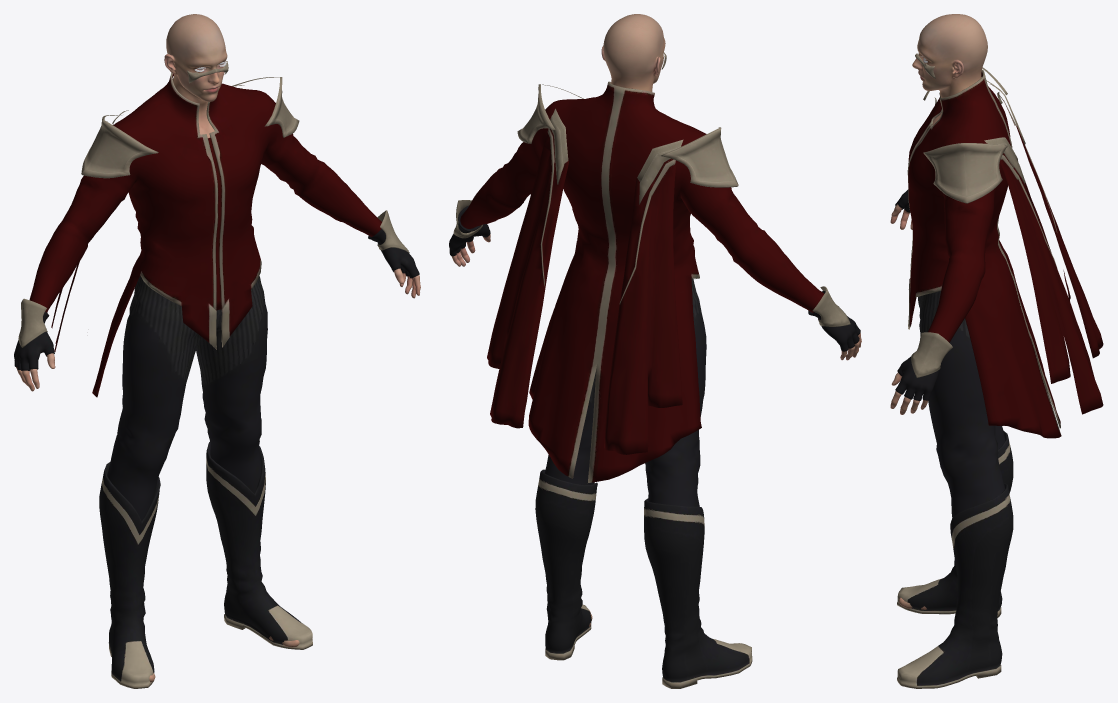
The picture shows the model from 3 angles, left to right: view 1: azimuth 30°, elevation 25°; view 2: azimuth 150°, elevation 25°; view 3: azimuth 270°, elevation 25°; orthographic projection. The views are drawn at different scales.
Parts seen in each view (by area): view 1: GM_0101_T01_Body, GM_0101_T01_Pants, GM_0101_T01_Boots, GM_BaseHead, GM_0101_T01_Glove, GM_0101_T01_Shoulder; view 2: GM_0101_T01_Body, GM_0101_T01_Cape, GM_0101_T01_Boots, GM_0101_T01_Pants, GM_BaseHead, GM_0101_T01_Shoulder, GM_0101_T01_Glove; view 3: GM_0101_T01_Body, GM_0101_T01_Boots, GM_0101_T01_Cape, GM_0101_T01_Pants, GM_BaseHead, GM_0101_T01_Shoulder, GM_0101_T01_Glove.
Part boxes in pixels (left/top/right/bottom): GM_0101_T01_Body: left=16, top=73, right=420, bottom=397; GM_0101_T01_Pants: left=107, top=275, right=299, bottom=682; GM_0101_T01_Boots: left=99, top=442, right=312, bottom=688; GM_BaseHead: left=164, top=14, right=227, bottom=116; GM_0101_T01_Glove: left=14, top=210, right=419, bottom=370; GM_0101_T01_Shoulder: left=81, top=77, right=299, bottom=178; GM_0101_T01_Body: left=451, top=81, right=861, bottom=482; GM_0101_T01_Cape: left=487, top=108, right=683, bottom=454; GM_0101_T01_Boots: left=535, top=469, right=752, bottom=688; GM_0101_T01_Pants: left=544, top=278, right=706, bottom=626; GM_BaseHead: left=601, top=14, right=665, bottom=91; GM_0101_T01_Shoulder: left=517, top=84, right=738, bottom=187; GM_0101_T01_Glove: left=449, top=200, right=860, bottom=351; GM_0101_T01_Body: left=890, top=69, right=1061, bottom=438; GM_0101_T01_Boots: left=897, top=430, right=1013, bottom=688; GM_0101_T01_Cape: left=984, top=80, right=1103, bottom=414; GM_0101_T01_Pants: left=899, top=291, right=1005, bottom=609; GM_BaseHead: left=912, top=14, right=987, bottom=97; GM_0101_T01_Shoulder: left=923, top=67, right=1007, bottom=203; GM_0101_T01_Glove: left=895, top=189, right=952, bottom=400.
Size of the model in its own units: 1.24 by 1.89 by 0.5823.
Materials: 10 (9 with a texture image).
